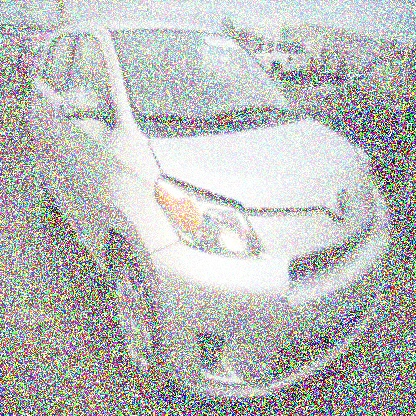Vehicle: (28, 16, 398, 405)
